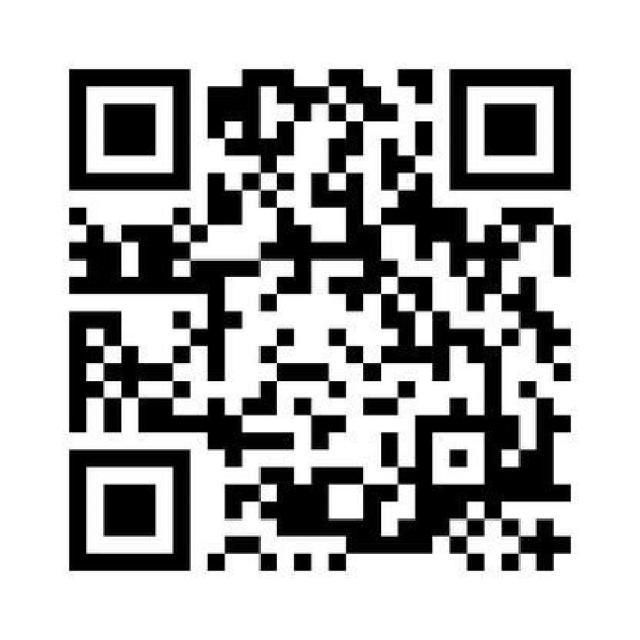QRCode: (59, 52, 582, 582)
